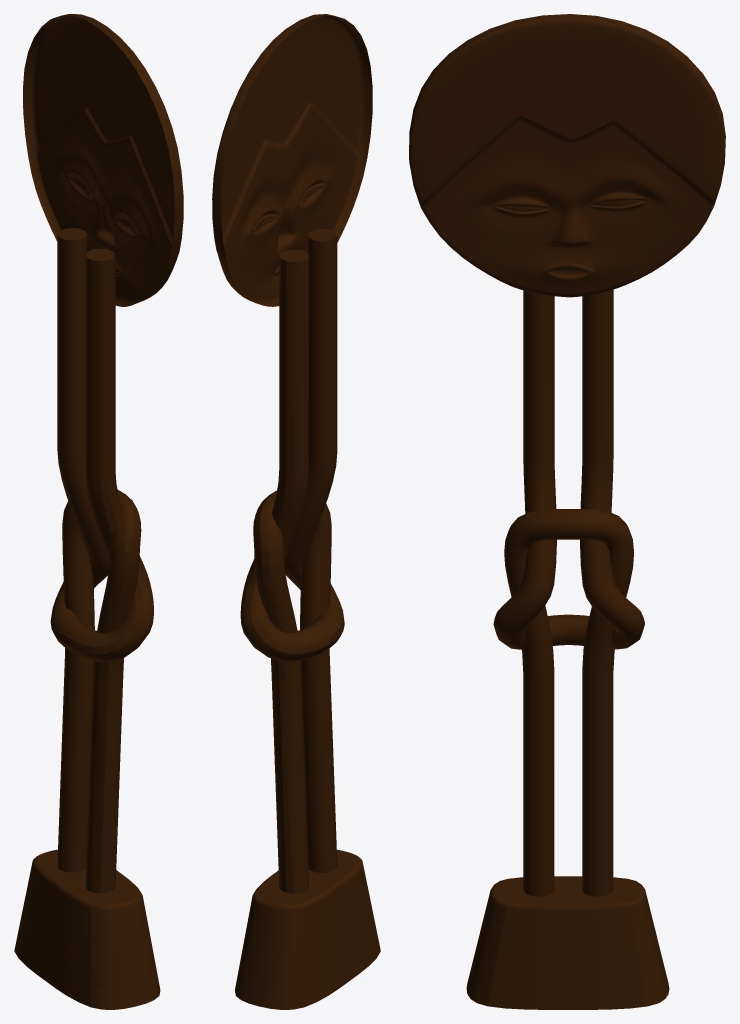
File: Decoration-1-living.FBX
3 views of the same model, side by side, from view 1: azimuth 30°, elevation 25°; view 2: azimuth 150°, elevation 25°; view 3: azimuth 270°, elevation 25° (orthographic). The views are drawn at different scales.
Parts seen in each view (by area): view 1: putong023; view 2: putong023; view 3: putong023.
Boxes of the visible parts, left/top/right/bottom form: putong023: left=14, top=14, right=183, bottom=1009; putong023: left=212, top=14, right=380, bottom=1009; putong023: left=409, top=14, right=725, bottom=1009.
Bounding box in the file's own units: 6.98 × 73.2 × 21.44.
